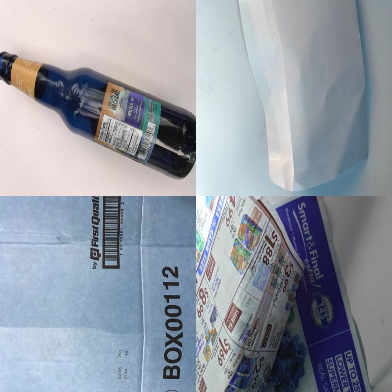cardboard: (1, 196, 196, 391)
glass: (1, 51, 196, 179)
paper: (196, 196, 373, 390), (239, 1, 370, 190)
